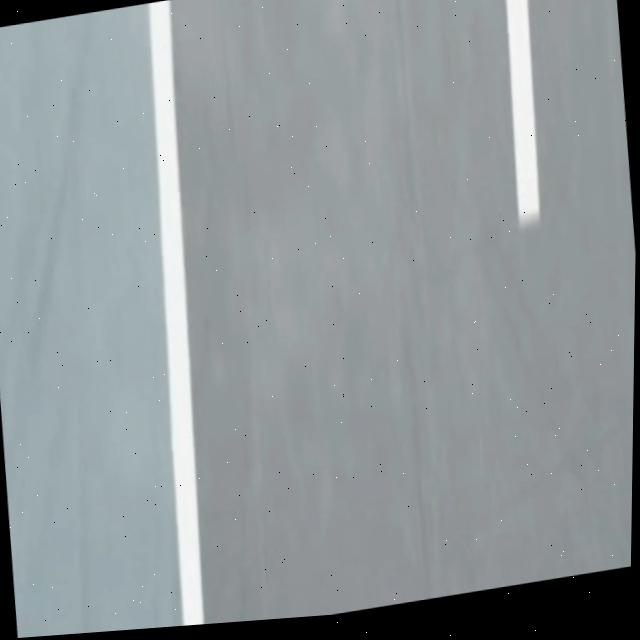center: (504, 0, 539, 226)
left: (148, 0, 203, 626)
